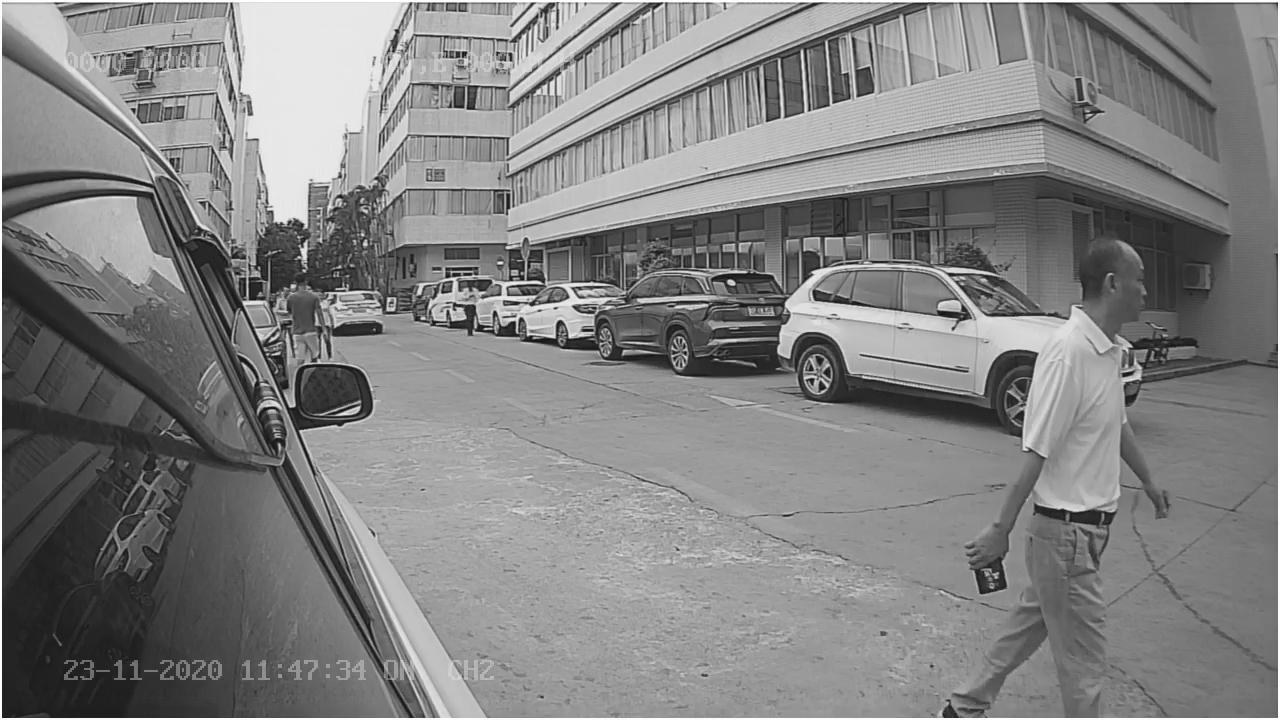person: (960, 209, 1190, 600)
